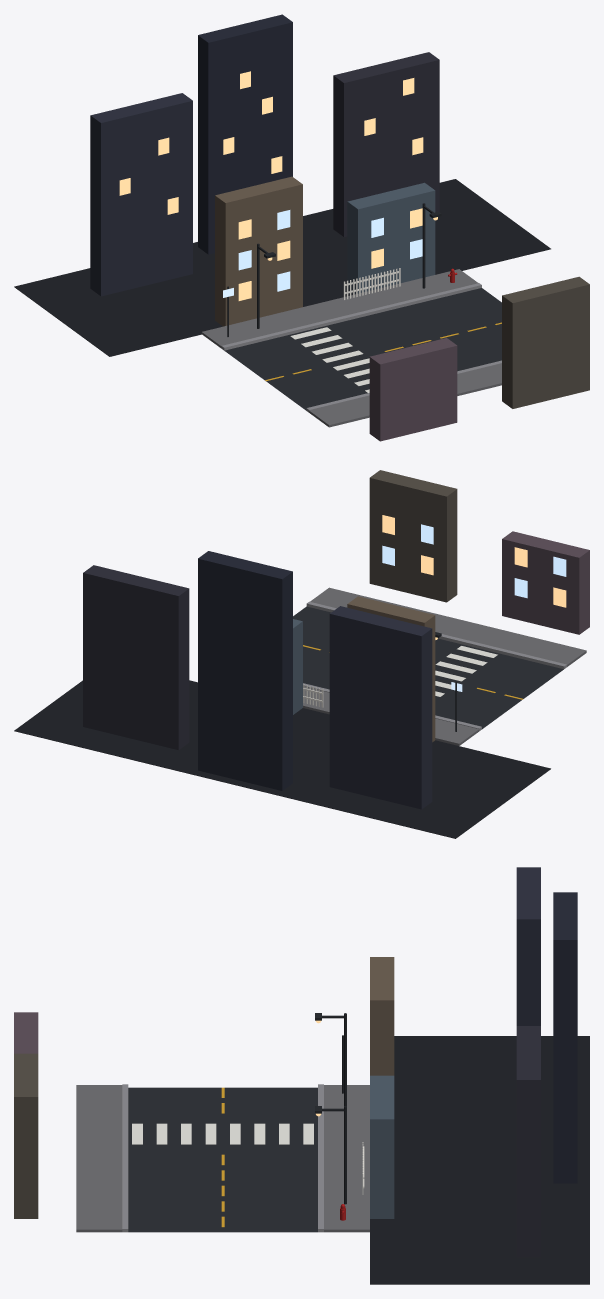
Rendered from street.glb.
3 views of the same model, one above another, from view 1: azimuth 30°, elevation 25°; view 2: azimuth 150°, elevation 25°; view 3: azimuth 270°, elevation 25° (orthographic). The views are drawn at different scales.
Visible parts, largest first — view 1: FarGround, Far0, Far1, Road, Far2, BuildingS1, BuildingN0, BuildingS0, BuildingN1, SidewalkN, SidewalkS, CurbN; view 2: Far1, Far0, FarGround, Far2, BuildingS1, Road, BuildingS0, SidewalkS, BuildingN0, SidewalkN, CurbS, BuildingN1; view 3: FarGround, Road, Far1, SidewalkS, SidewalkN, Far2, BuildingS1, Far0, BuildingN1, BuildingN0, BuildingS0, CurbS (+1 smaller).
Part boxes in pixels (box(x1,y1,x2,y2)): FarGround: box(14, 179, 550, 356); Far0: box(90, 93, 192, 296); Far1: box(198, 14, 292, 254); Road: box(224, 288, 501, 410); Far2: box(333, 52, 439, 236); BuildingS1: box(502, 276, 589, 408); BuildingN0: box(215, 176, 302, 326); BuildingS0: box(369, 338, 457, 441); BuildingN1: box(347, 182, 435, 293); SidewalkN: box(201, 269, 478, 348); SidewalkS: box(309, 363, 501, 427); CurbN: box(221, 283, 481, 350); Far1: box(198, 551, 292, 790); Far0: box(329, 606, 432, 809); FarGround: box(14, 680, 550, 838); Far2: box(83, 565, 189, 750); BuildingS1: box(369, 470, 457, 602); Road: box(293, 606, 563, 729); BuildingS0: box(502, 531, 589, 634); SidewalkS: box(310, 587, 586, 666); BuildingN0: box(347, 596, 435, 742); SidewalkN: box(303, 686, 479, 745); CurbS: box(306, 601, 566, 668); BuildingN1: box(293, 619, 302, 714); FarGround: box(370, 1036, 589, 1284); Road: box(128, 1087, 317, 1232); Far1: box(553, 892, 577, 1183); SidewalkS: box(76, 1085, 122, 1232); SidewalkN: box(324, 1085, 369, 1232); Far2: box(516, 1026, 540, 1257); BuildingS1: box(14, 1053, 38, 1218); Far0: box(516, 867, 540, 1025); BuildingN1: box(370, 1075, 394, 1218); BuildingN0: box(370, 957, 394, 1075); BuildingS0: box(14, 1012, 38, 1053); CurbS: box(122, 1084, 128, 1232).
Size of the model in its own units: 24 by 11.02 by 23.55.
